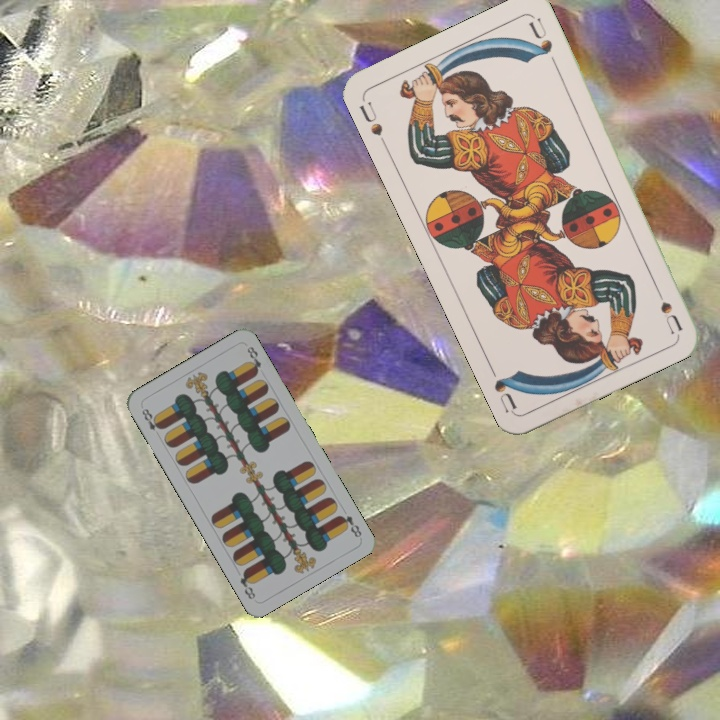E8: (335, 511, 364, 540), (138, 404, 165, 433)
SU: (649, 278, 685, 335), (355, 98, 385, 139)
